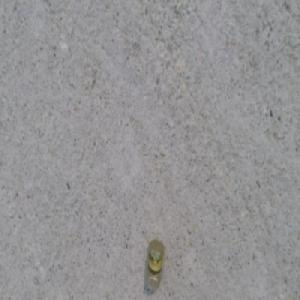BoltNutSet: (145, 241, 164, 289)
